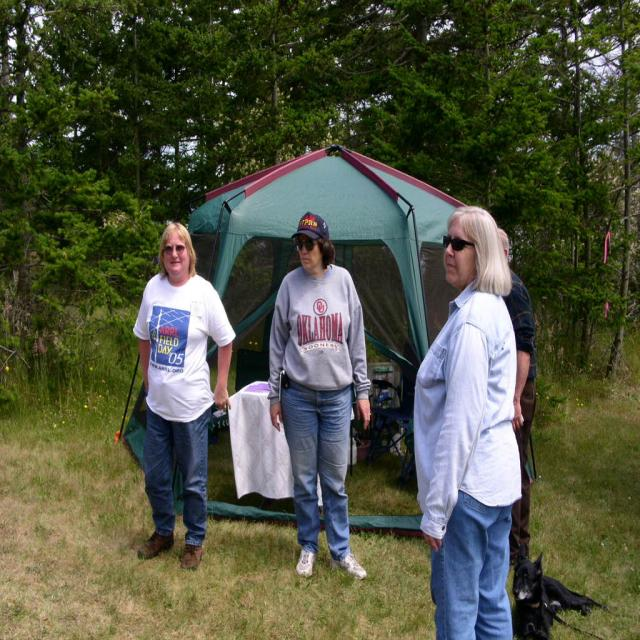no_helmet: (448, 233, 496, 253), (287, 240, 334, 260), (154, 245, 200, 265)
